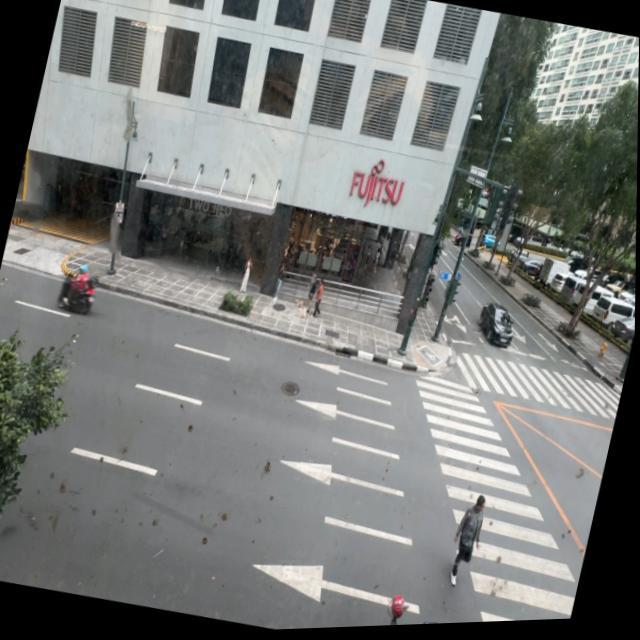jaywalking: (444, 492, 489, 588)
